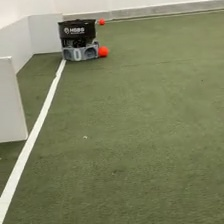ball: (98, 45, 109, 57), (99, 17, 105, 26)
robot: (56, 17, 98, 63)
